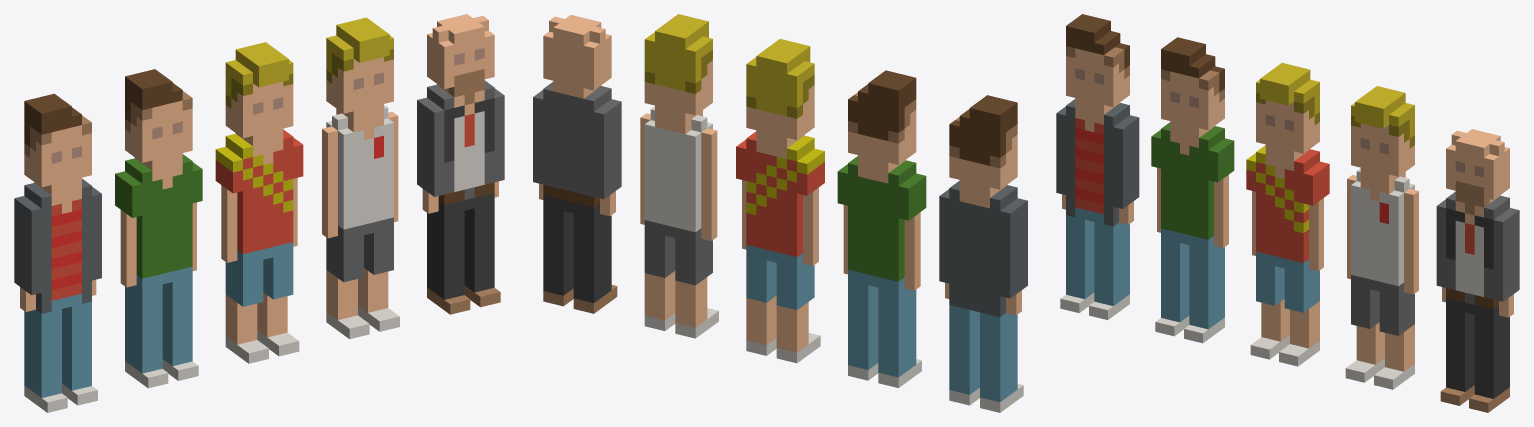
Rendered from voxel_Char1.obj.
3 renders of one model, left to right at view 1: azimuth 30°, elevation 25°; view 2: azimuth 150°, elevation 25°; view 3: azimuth 330°, elevation 25°, orthographic. The views are drawn at different scales.
Visible parts, largest first — view 1: default; view 2: default; view 3: default.
Boxes of the visible parts, x1=… form: default: x1=14, y1=14, x2=504, y2=412; default: x1=533, y1=14, x2=1027, y2=412; default: x1=1056, y1=14, x2=1519, y2=412.
Size of the model in its own units: 4.7 by 2.8 by 0.4.
